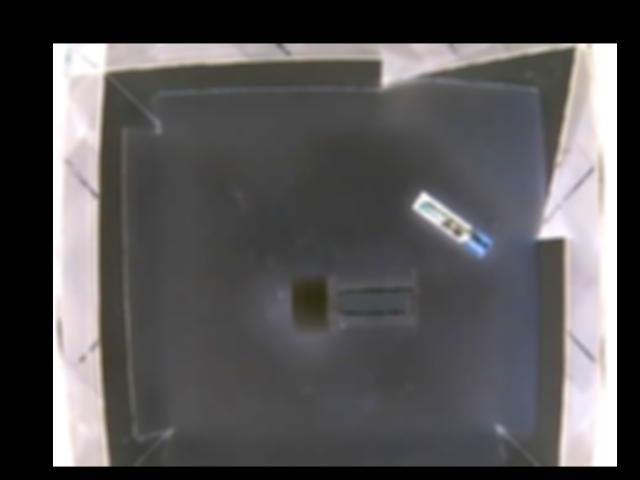Battery: (409, 192, 491, 255)
Bottle: (291, 269, 420, 330)
